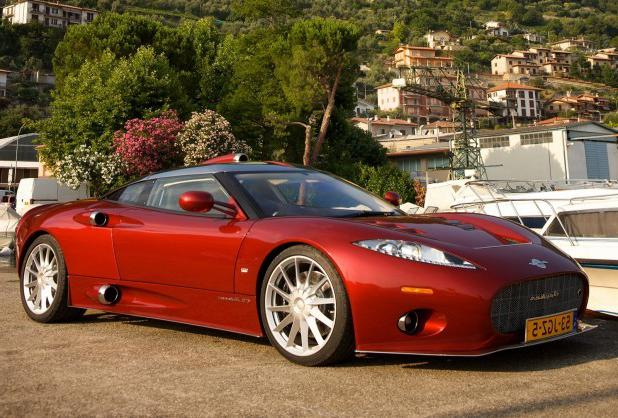Car: (2, 148, 610, 399)
